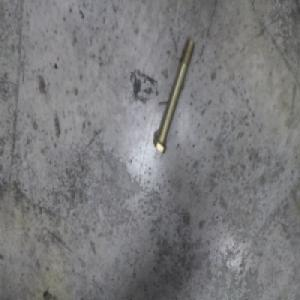Bolt: (154, 38, 198, 156)
